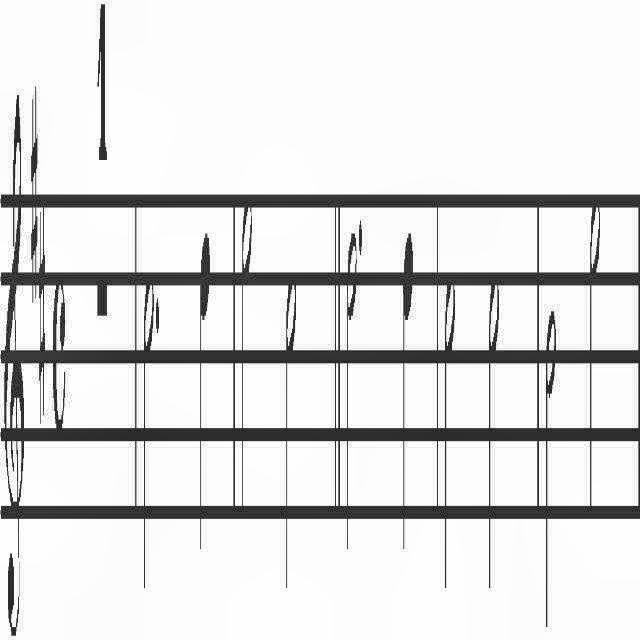Bass-clef: (0, 31, 27, 640)
Diez: (28, 48, 40, 352), (37, 164, 49, 422)
Half-note: (540, 284, 562, 640), (283, 230, 301, 622), (586, 164, 602, 582), (342, 203, 360, 549), (138, 234, 154, 614), (486, 214, 502, 594), (444, 235, 458, 640), (238, 183, 252, 533)
Quarter-note: (192, 215, 220, 608), (401, 188, 414, 616)
